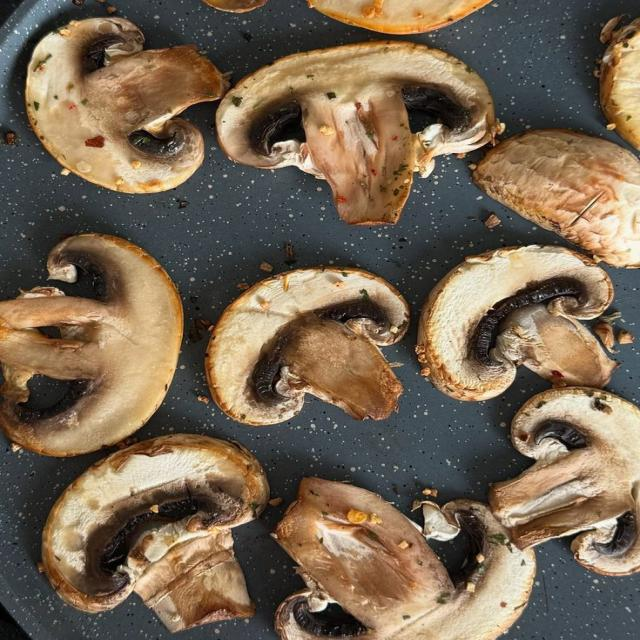champignon mushrooms: (217, 42, 499, 224), (42, 434, 269, 631), (273, 478, 535, 639), (0, 234, 182, 456), (27, 18, 228, 192), (206, 267, 409, 424), (417, 246, 616, 400), (490, 388, 639, 575), (473, 130, 639, 267), (309, 0, 490, 34), (600, 17, 639, 150), (203, 0, 266, 12)
